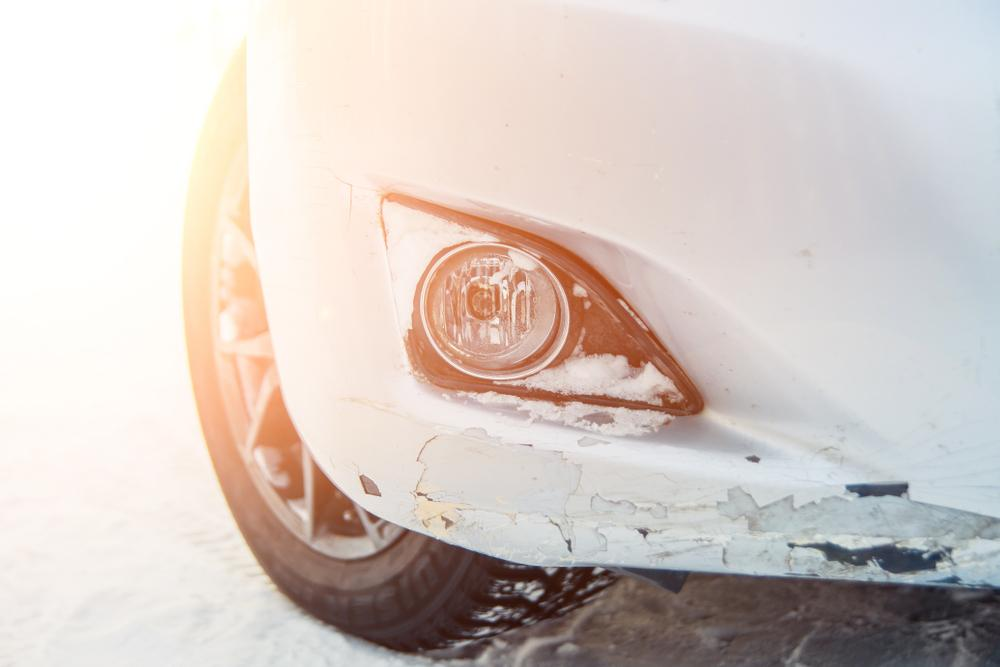scratch: (338, 394, 1000, 591)
